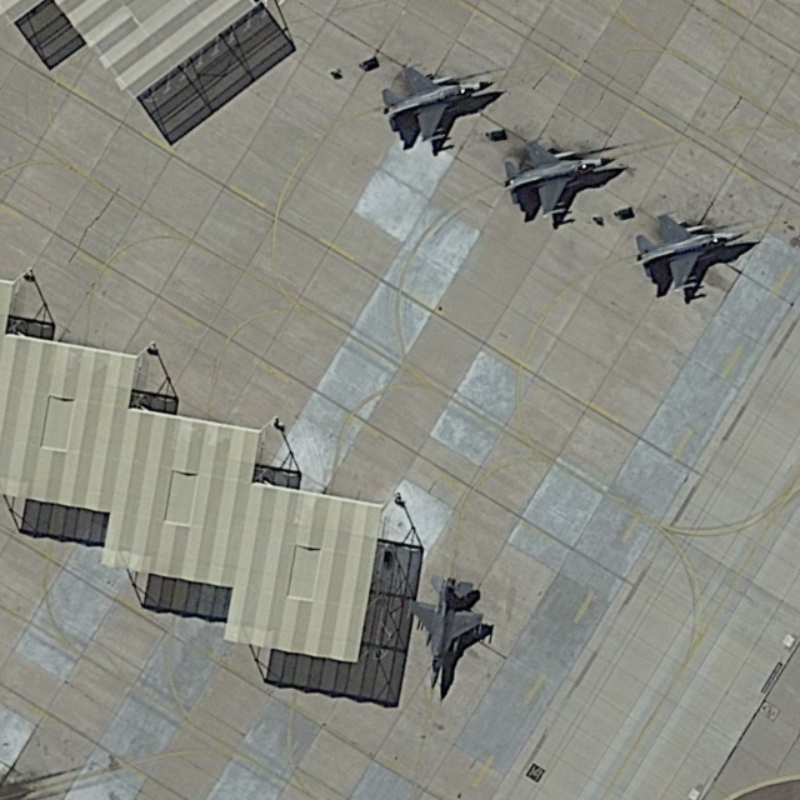A5: (373, 54, 499, 153), (494, 133, 621, 224), (403, 565, 491, 696), (625, 205, 750, 295)
